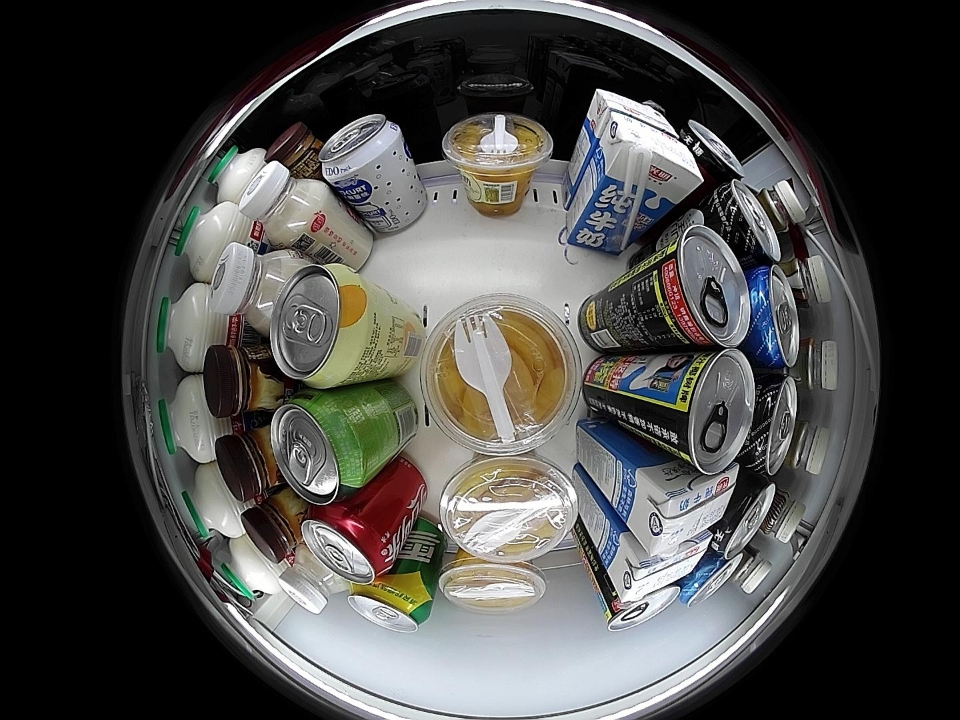kafei: (777, 250, 831, 308), (760, 481, 805, 544), (787, 337, 838, 392), (759, 179, 806, 234), (786, 417, 829, 475), (729, 544, 773, 595)
kele: (302, 504, 390, 584)
lingdukele: (712, 475, 776, 559), (683, 119, 746, 186)
liziyuan: (176, 201, 254, 280), (157, 282, 222, 371), (157, 377, 225, 462), (183, 465, 250, 540), (216, 538, 283, 600), (208, 144, 268, 205)
lujikafei: (202, 344, 280, 417), (215, 422, 280, 504), (242, 495, 304, 567), (266, 122, 323, 177)
mangguoxiaolao: (269, 264, 374, 387)
niunai: (628, 460, 741, 556), (597, 112, 707, 205), (614, 531, 714, 602), (586, 89, 679, 139)
qingdaowangzi-1: (707, 179, 782, 266), (741, 374, 800, 475)
qingdaowangzi-2: (744, 263, 800, 370), (679, 548, 740, 608)
quchenshixiangcao: (272, 391, 367, 505)
rusuanjunqishui: (320, 114, 405, 190)
weiweidounai: (210, 243, 299, 335), (239, 160, 326, 249), (279, 549, 345, 614)
xianguolao: (421, 293, 583, 456), (440, 455, 579, 561), (441, 113, 554, 185), (437, 554, 547, 613)
xuebi2: (347, 576, 434, 633)
yezhi: (647, 224, 750, 350), (660, 349, 756, 474), (603, 582, 681, 632)
